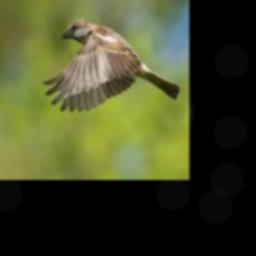Sparrow: (43, 19, 180, 111)
